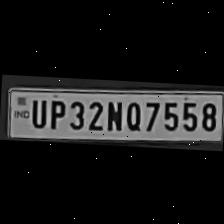2: (85, 96, 105, 130)
3: (65, 96, 85, 128)
5: (159, 97, 179, 130), (178, 97, 198, 130)
7: (140, 97, 160, 131)
8: (196, 97, 218, 130)
N: (102, 97, 124, 131)
P: (45, 95, 65, 129)
Q: (122, 96, 142, 130)
U: (28, 95, 46, 127)
